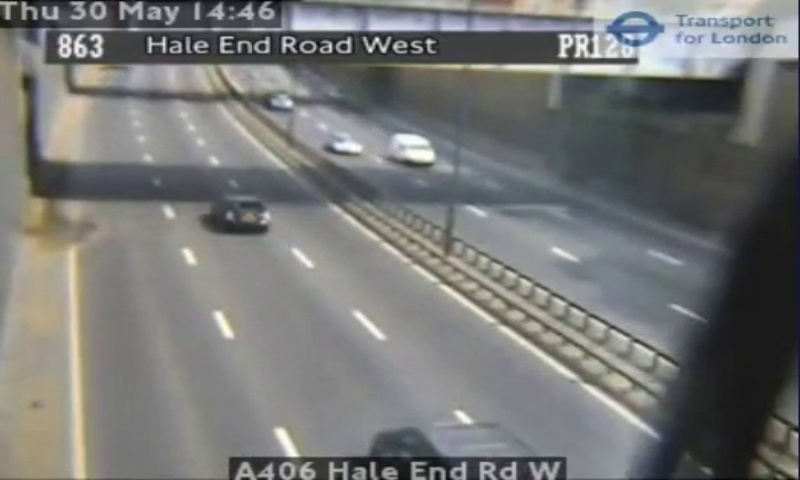car: (212, 196, 271, 231)
